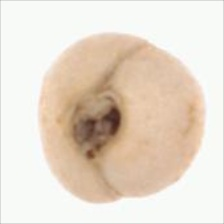L3: (66, 88, 121, 156)
L4: (38, 33, 206, 203)
